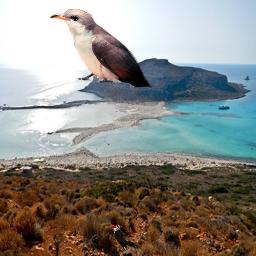Cuckoo: (50, 9, 152, 88)
Woodpecker: (110, 225, 141, 252)
